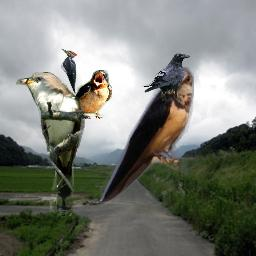Crow: (141, 53, 190, 101)
Cuckoo: (16, 72, 85, 216)
Swallow: (100, 67, 194, 207), (61, 70, 112, 119)
Woodpecker: (60, 48, 77, 94)
